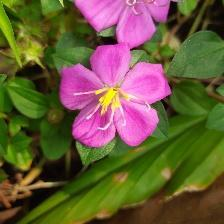malabar melastome: (57, 44, 174, 150), (73, 1, 176, 45)
